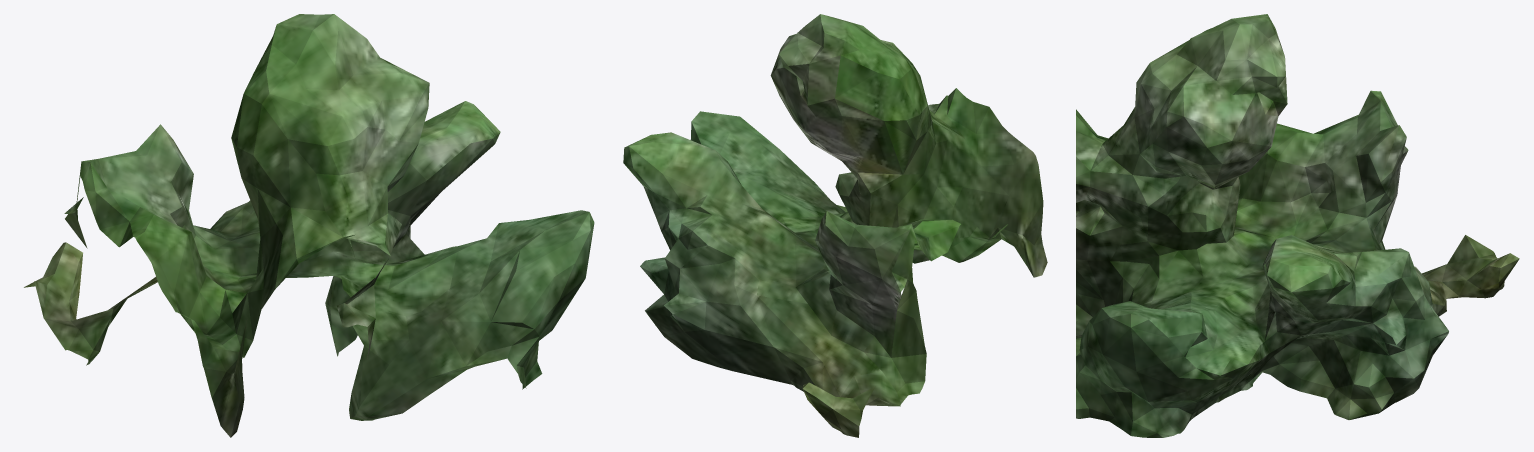
The picture shows the model from 3 angles, left to right: view 1: azimuth 30°, elevation 25°; view 2: azimuth 150°, elevation 25°; view 3: azimuth 270°, elevation 25°; orthographic projection. The views are drawn at different scales.
Size of the model in its own units: 1.76 by 1.54 by 1.82.
2 materials, 2 textured.
